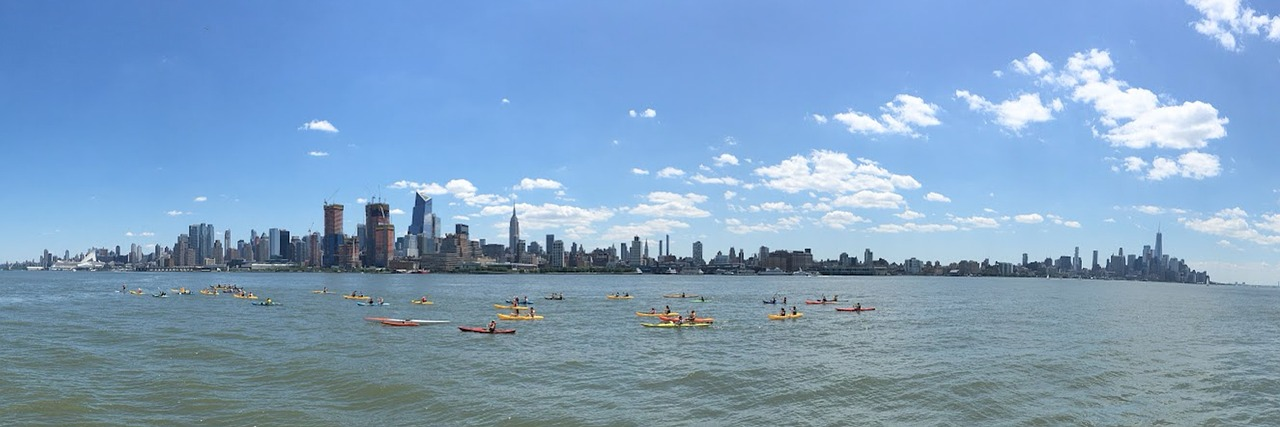kayak: (645, 319, 714, 331), (455, 326, 516, 335), (770, 309, 805, 323), (499, 312, 551, 321), (411, 296, 436, 307), (836, 307, 875, 313), (609, 292, 638, 300)
